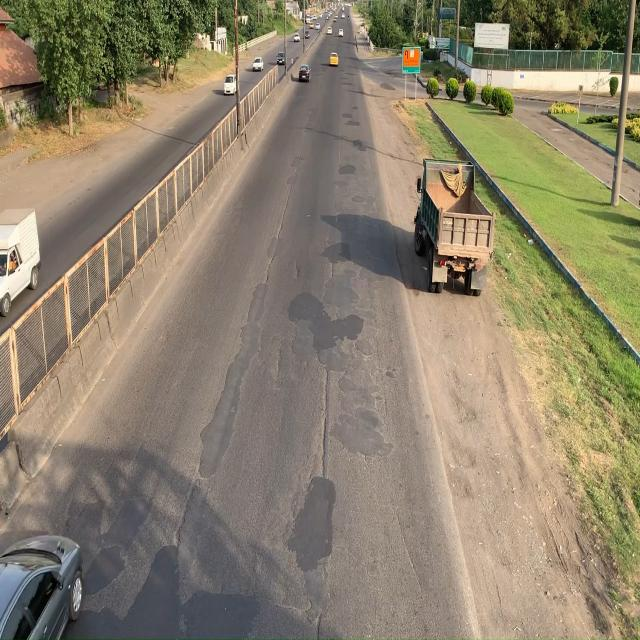Truck: (413, 154, 497, 294)
cars: (1, 534, 85, 640), (0, 206, 37, 314)
